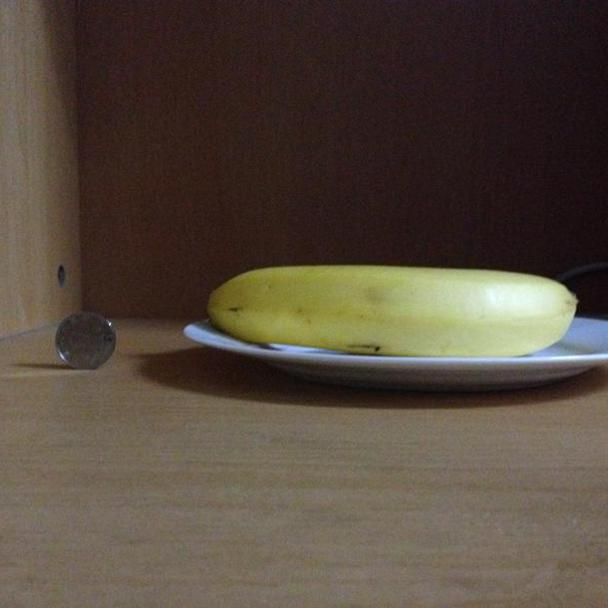banana: (204, 257, 586, 357)
